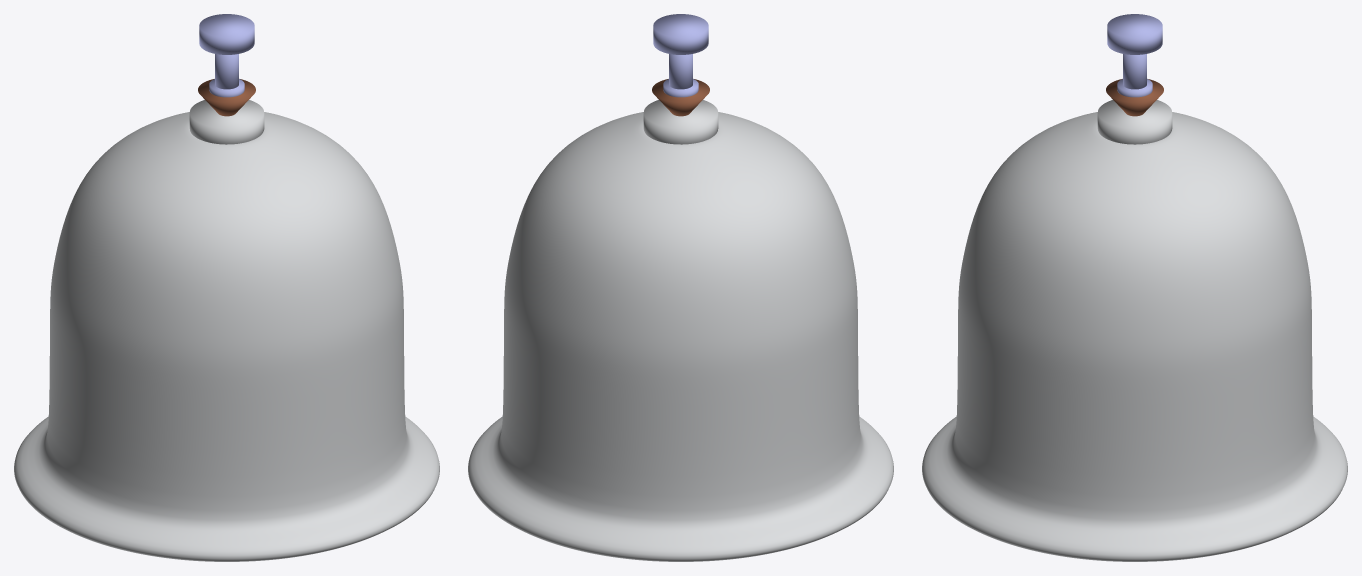
Rendered from schroepfkopf.glb.
3 views of the same model, side by side, from view 1: azimuth 30°, elevation 25°; view 2: azimuth 150°, elevation 25°; view 3: azimuth 270°, elevation 25° (orthographic).
Parts seen in each view (by area): view 1: CupInst0; view 2: CupInst0; view 3: CupInst0.
Part boxes in pixels (x1,y1,x2,y2): CupInst0: (14,14,439,561); CupInst0: (468,14,893,561); CupInst0: (922,14,1347,561).
Size of the model in its own units: 1.2 by 1.4 by 1.2.
